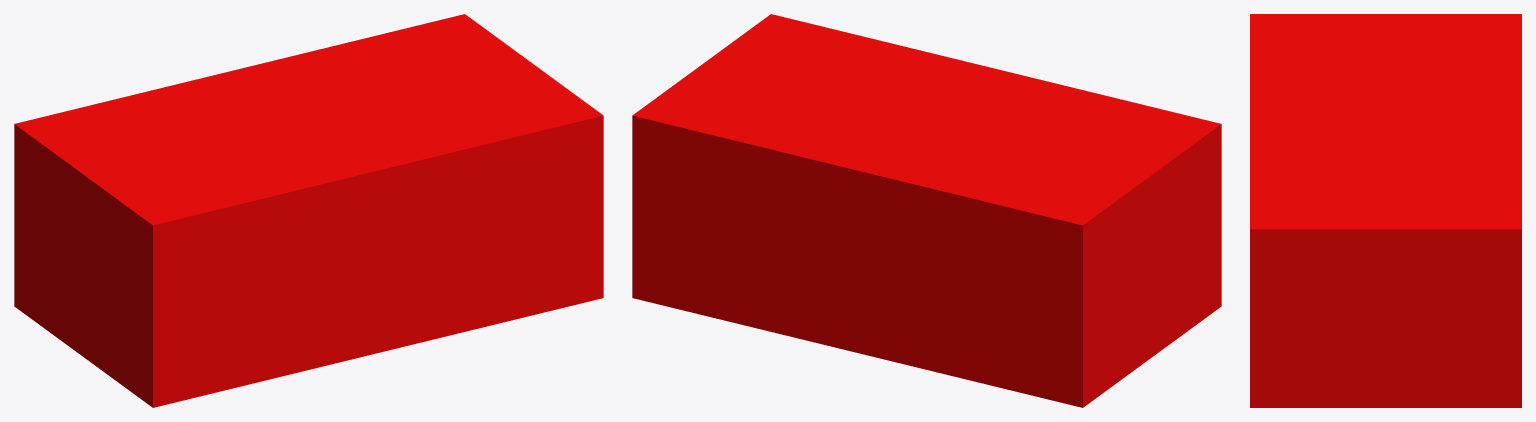
File: metatarsal1_rv_col.dae
3 views of the same model, side by side, from view 1: azimuth 30°, elevation 25°; view 2: azimuth 150°, elevation 25°; view 3: azimuth 270°, elevation 25° (orthographic). The views are drawn at different scales.
Visible parts, largest first — view 1: node0; view 2: node0; view 3: node0.
Part boxes in pixels (x1,y1,x2,y2): node0: [14, 14, 603, 407]; node0: [632, 14, 1221, 407]; node0: [1250, 14, 1521, 407].
Size of the model in its own units: 0.0642 by 0.0248 by 0.0342.
